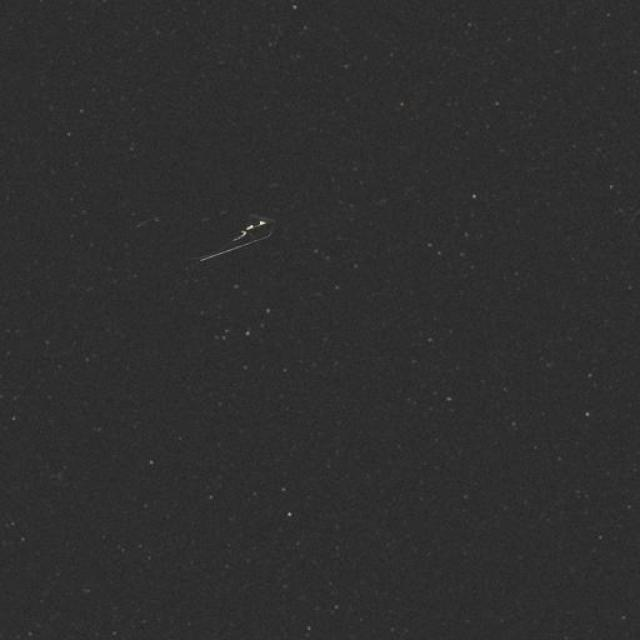proba_3_ocs: (181, 198, 390, 301)
